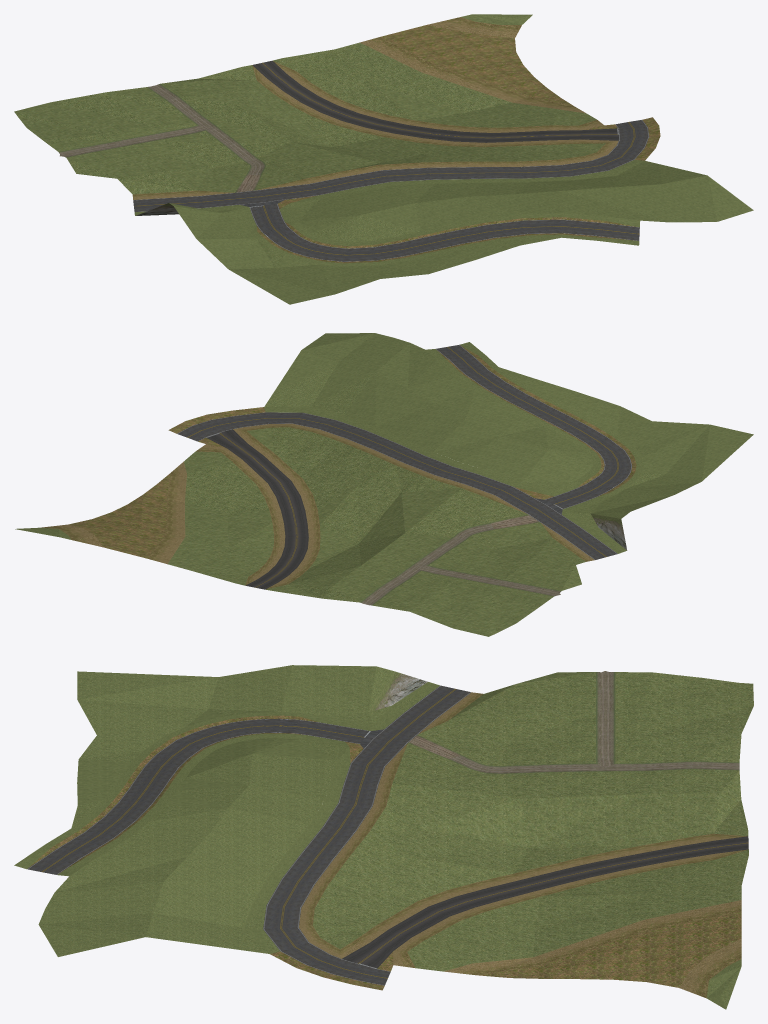
Rendered from s_bit_10.obj.
3 renders of one model, top to bottom at view 1: azimuth 30°, elevation 25°; view 2: azimuth 150°, elevation 25°; view 3: azimuth 270°, elevation 25°, orthographic. The views are drawn at different scales.
Visible parts, largest first — view 1: s_bit_10; view 2: s_bit_10; view 3: s_bit_10.
Part boxes in pixels (x1,y1,x2,y2): s_bit_10: (14,14,753,304); s_bit_10: (15,333,753,636); s_bit_10: (14,665,753,1009).
Bounding box in the file's own units: 252 × 19.12 × 252.
Materials: 15 (15 with a texture image).
